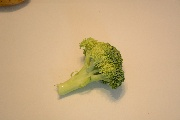broccoli: (56, 38, 124, 100)
